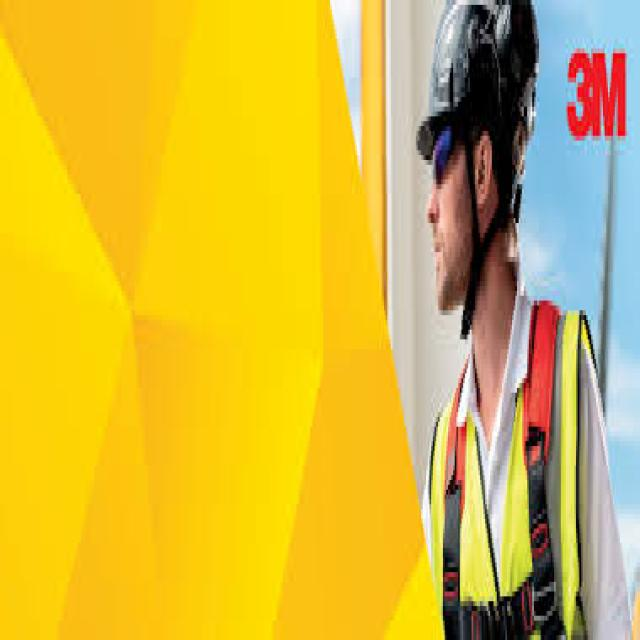Ear-protection: (490, 0, 539, 126)
glasses: (423, 102, 463, 194)
head_helmet: (409, 0, 538, 145)
person: (396, 0, 614, 640)
